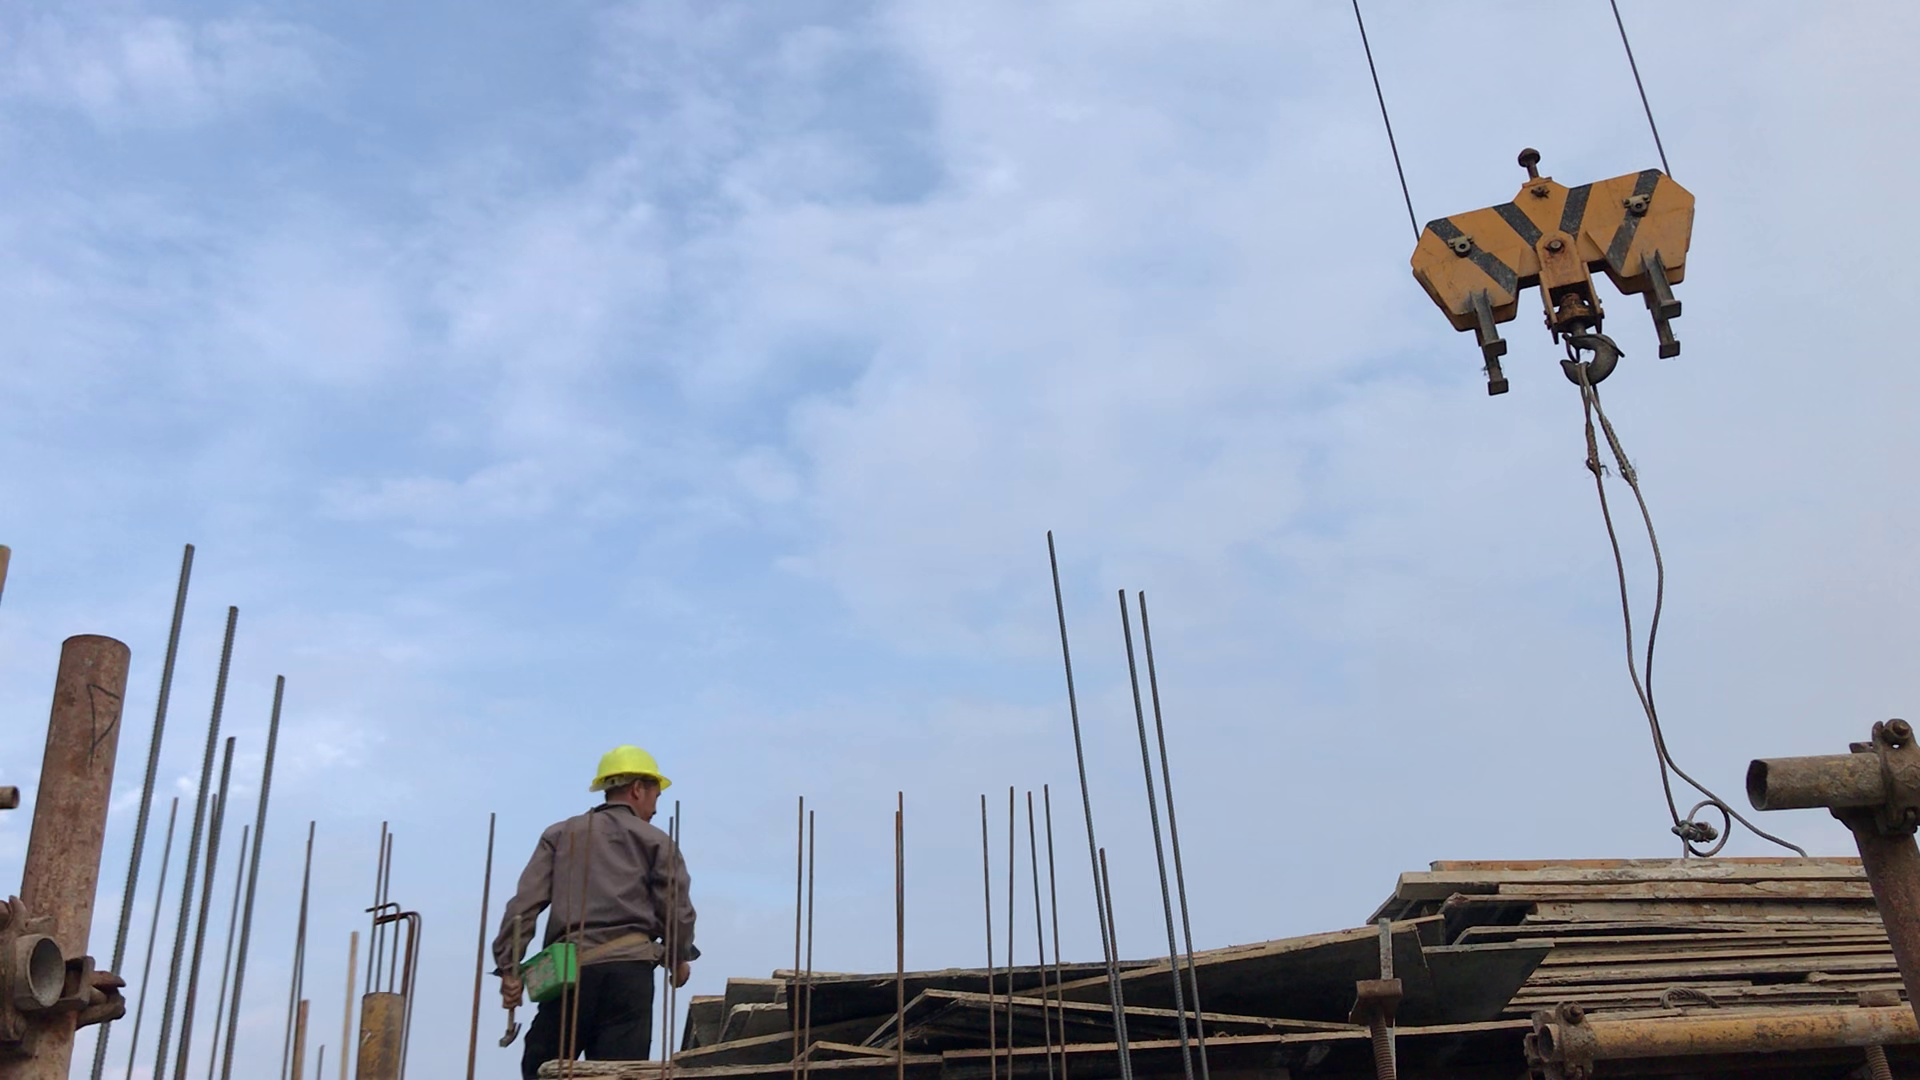board: (1383, 856, 1920, 1005)
helmet: (585, 741, 678, 790)
hook: (1396, 145, 1715, 393)
person: (473, 724, 725, 1080)
